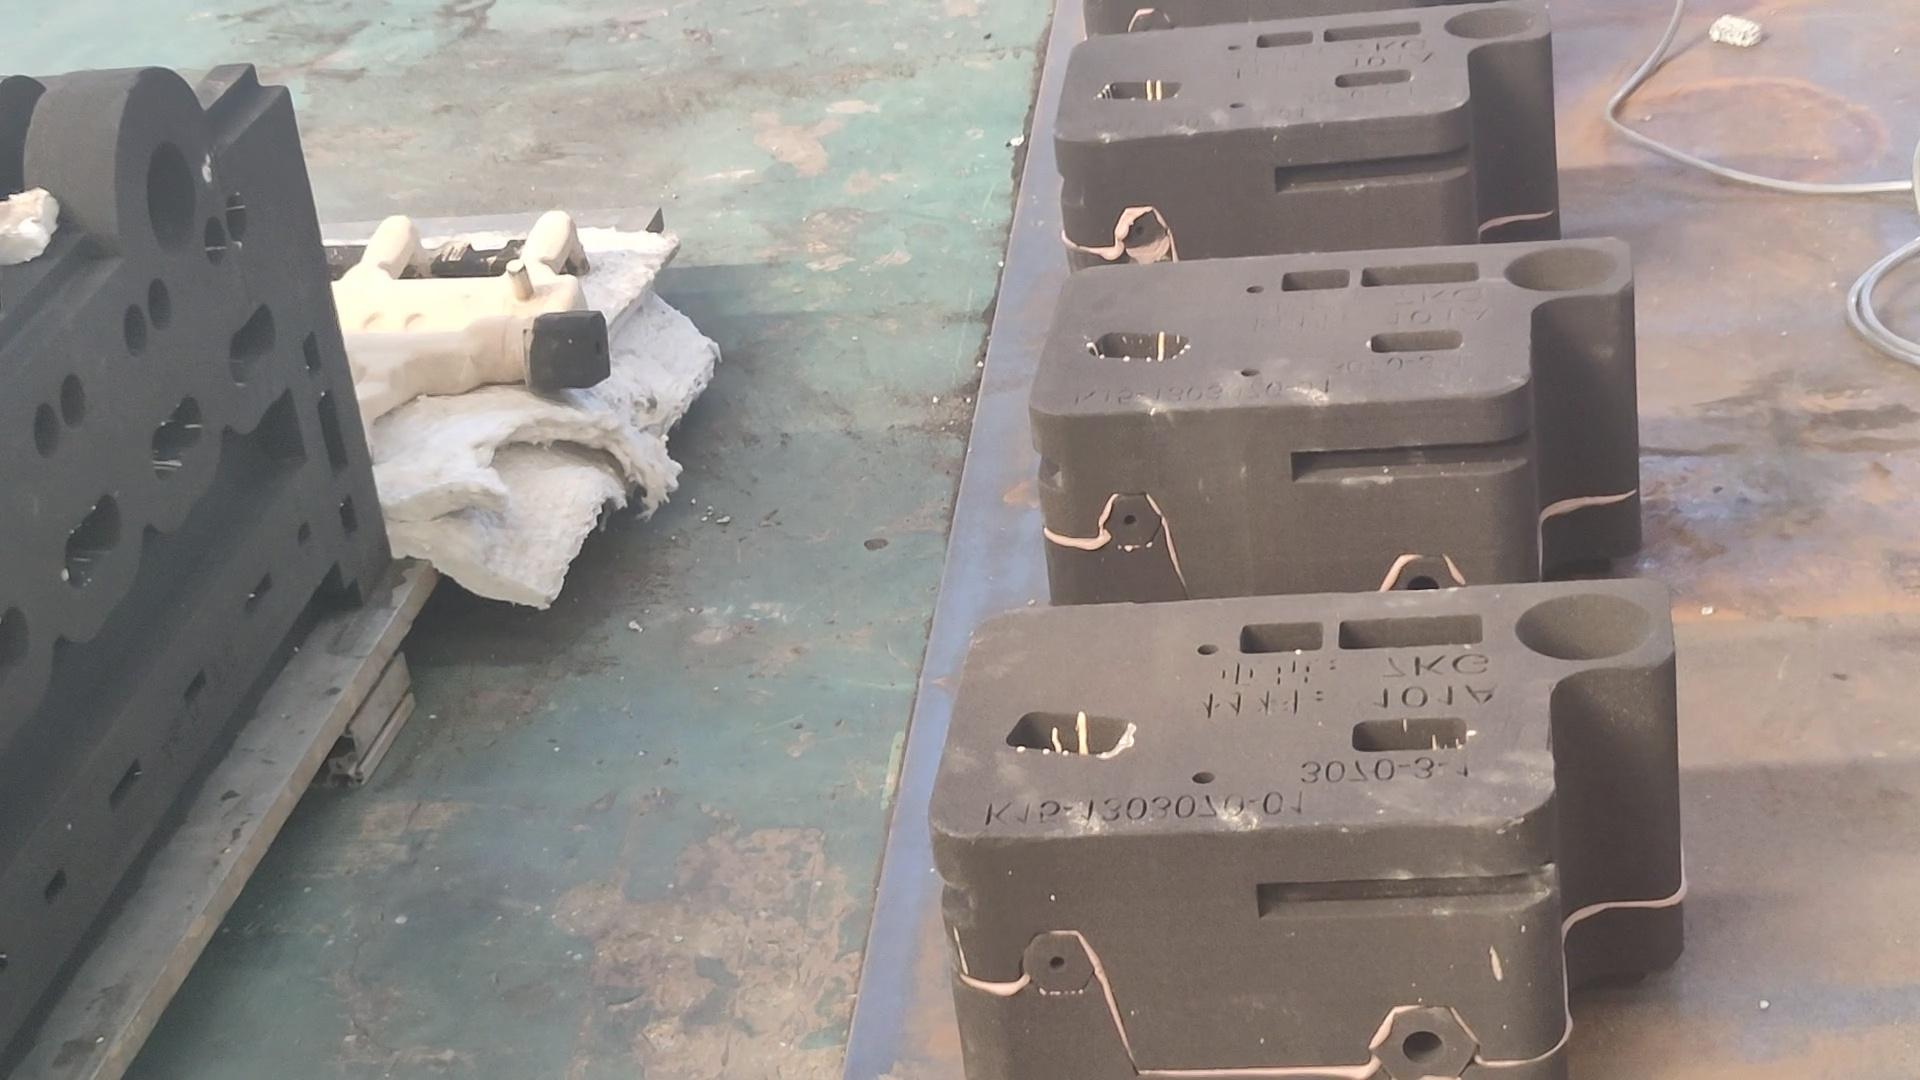pouring hole: (1513, 593, 1652, 659), (145, 142, 195, 257), (1501, 247, 1615, 293), (1444, 9, 1542, 38)
